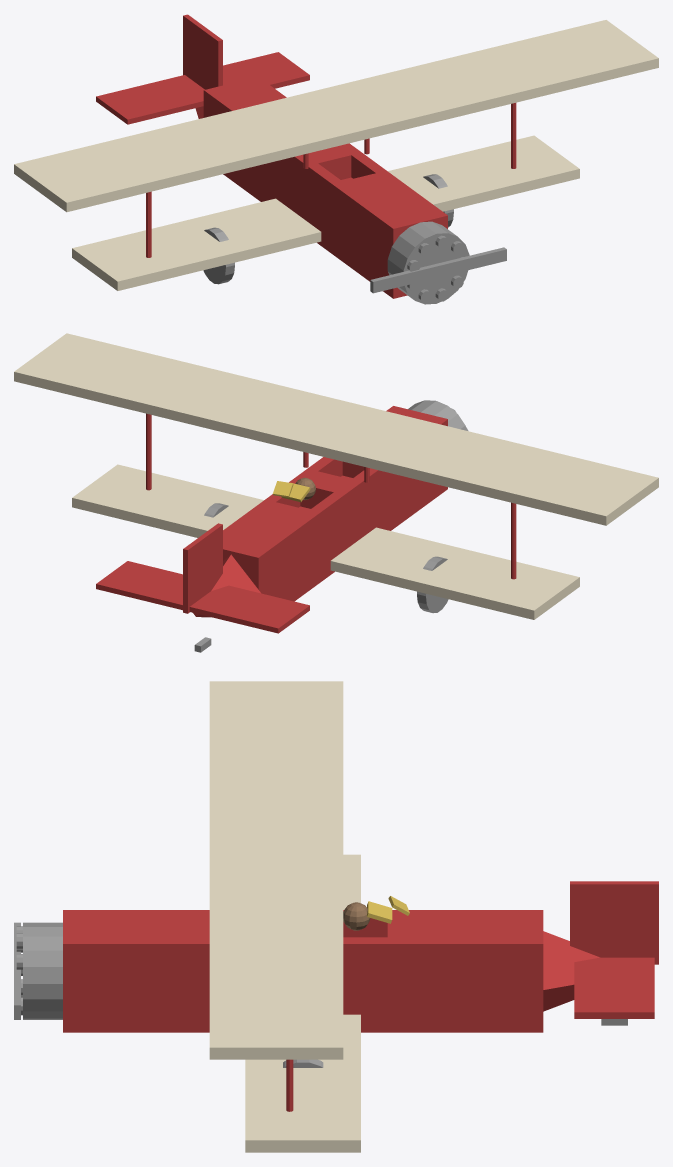
3 views of the same model, one above another, from view 1: azimuth 30°, elevation 25°; view 2: azimuth 150°, elevation 25°; view 3: azimuth 270°, elevation 25° (orthographic). The views are drawn at different scales.
Parts seen in each view (by area): view 1: Nu_D36, Pervane; view 2: Nu_D36; view 3: Nu_D36.
Boxes of the visible parts, x1,y1,x2,y2 form: Nu_D36: [14, 14, 658, 304]; Pervane: [370, 247, 506, 293]; Nu_D36: [14, 333, 658, 652]; Nu_D36: [16, 681, 658, 1152].
Bounding box in the file's own units: 9.74 × 2.37 × 7.25.
